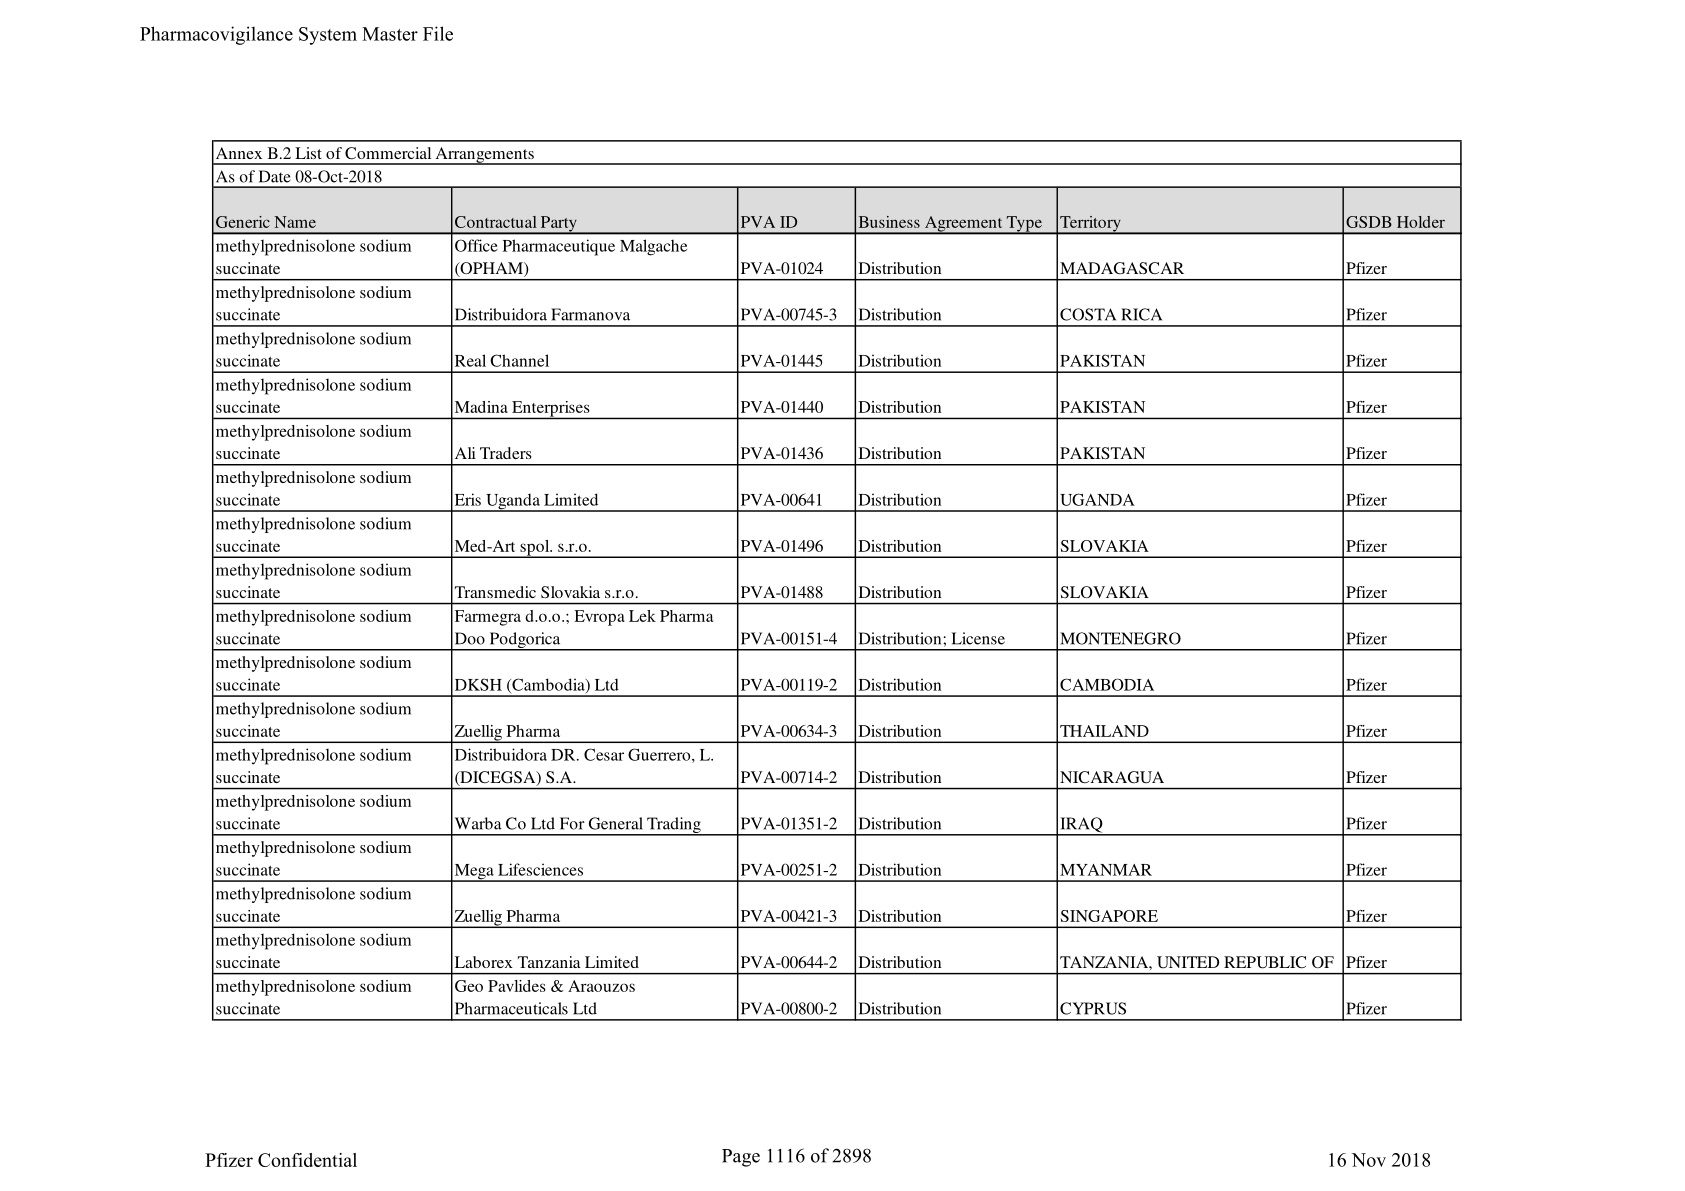merged_cells: (211, 140, 1462, 1021)
